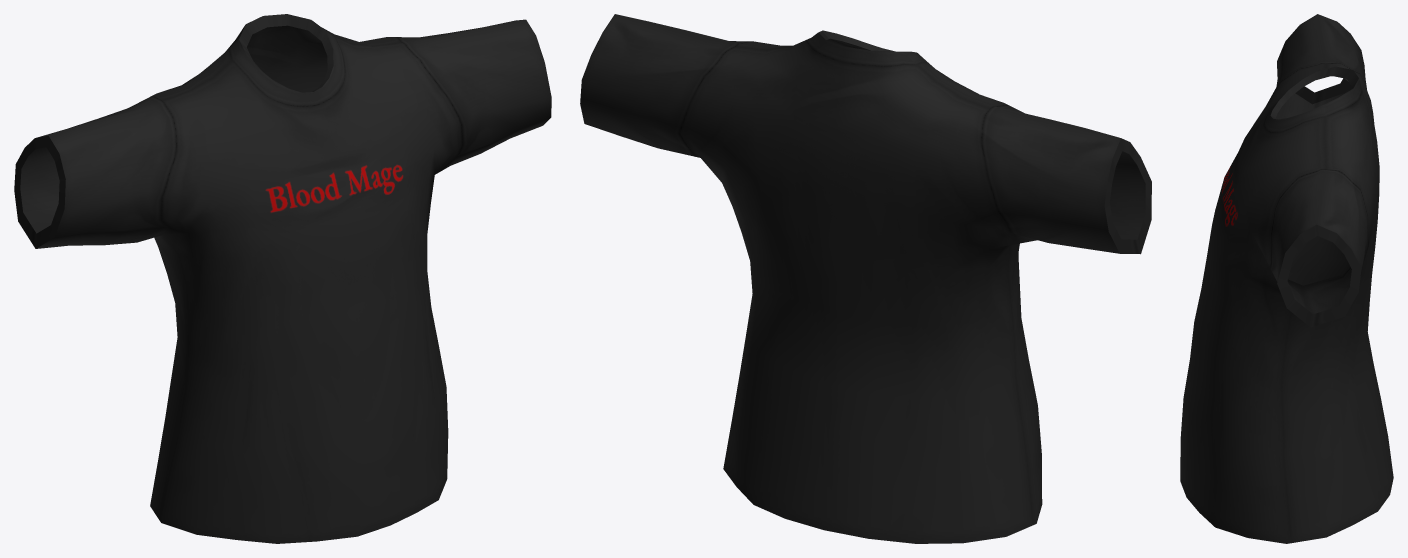
File: TShirt_152.glb
3 renders of one model, left to right at view 1: azimuth 30°, elevation 25°; view 2: azimuth 150°, elevation 25°; view 3: azimuth 270°, elevation 25°, orthographic. The views are drawn at different scales.
Visible parts, largest first — view 1: TShirt_LP.001; view 2: TShirt_LP.001; view 3: TShirt_LP.001.
Part boxes in pixels (left/top/right/bottom): TShirt_LP.001: left=14, top=14, right=551, bottom=543; TShirt_LP.001: left=580, top=14, right=1151, bottom=543; TShirt_LP.001: left=1180, top=14, right=1393, bottom=543.
Size of the model in its own units: 0.6266 by 0.5314 by 0.2526.
Materials: 1 (1 with a texture image).
